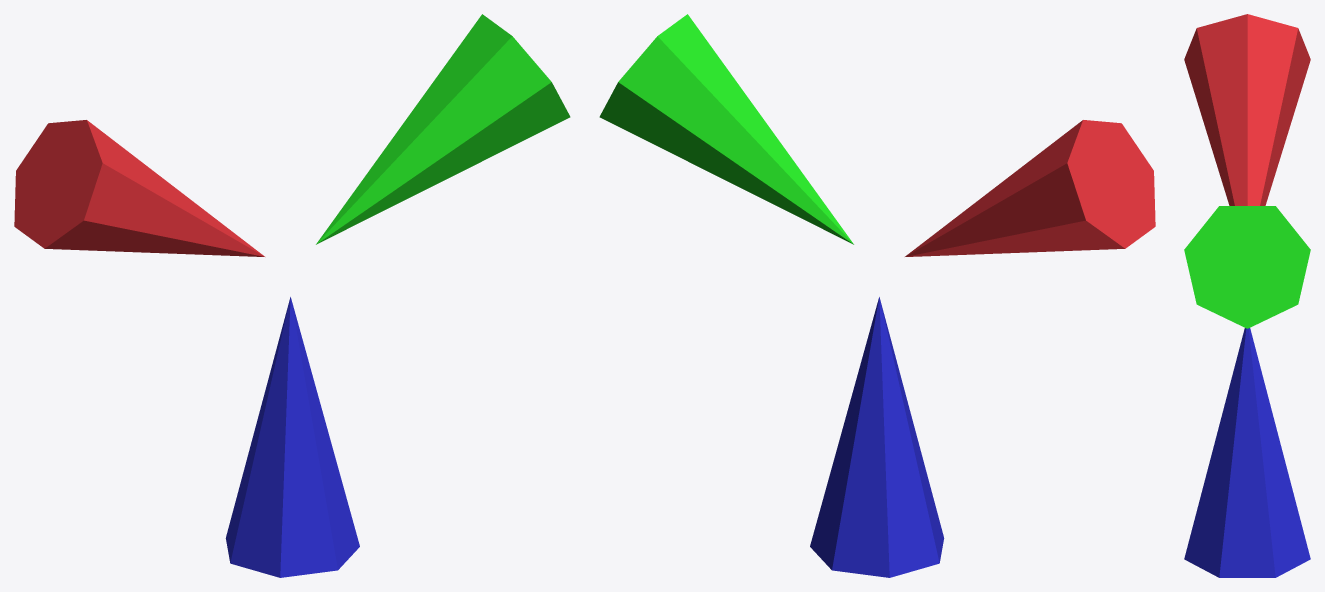
The model's file is TargetPointer.fbx.
The picture shows the model from 3 angles, left to right: view 1: azimuth 30°, elevation 25°; view 2: azimuth 150°, elevation 25°; view 3: azimuth 270°, elevation 25°; orthographic projection. The views are drawn at different scales.
Parts seen in each view (by area): view 1: Cone; view 2: Cone; view 3: Cone.
Boxes of the visible parts, box(x1,y1,x2,y2) form: Cone: box(14, 14, 570, 577); Cone: box(599, 14, 1155, 577); Cone: box(1184, 14, 1310, 577).
Bounding box in the file's own units: 87.05 × 75.82 × 19.5.
